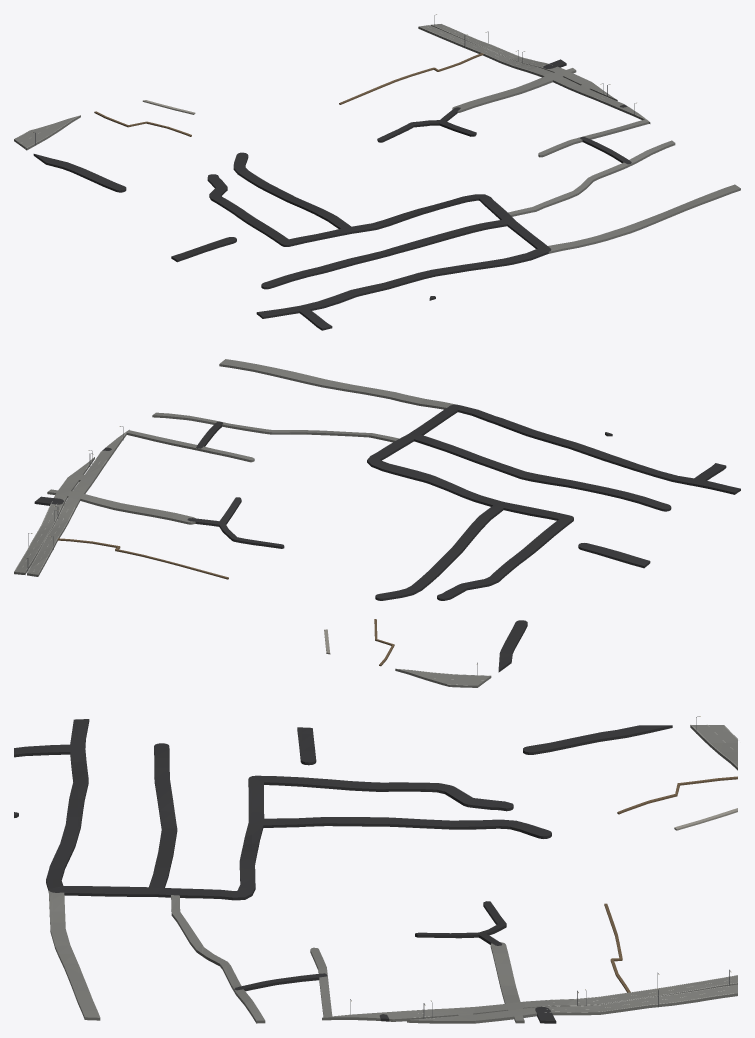
3 views of the same model, one above another, from view 1: azimuth 30°, elevation 25°; view 2: azimuth 150°, elevation 25°; view 3: azimuth 270°, elevation 25° (orthographic). The views are drawn at different scales.
Size of the model in its own units: 294 by 17.69 by 293.
